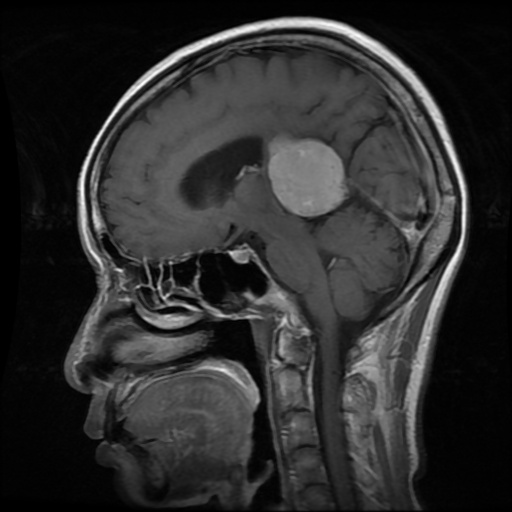meningioma: (265, 130, 349, 218)
